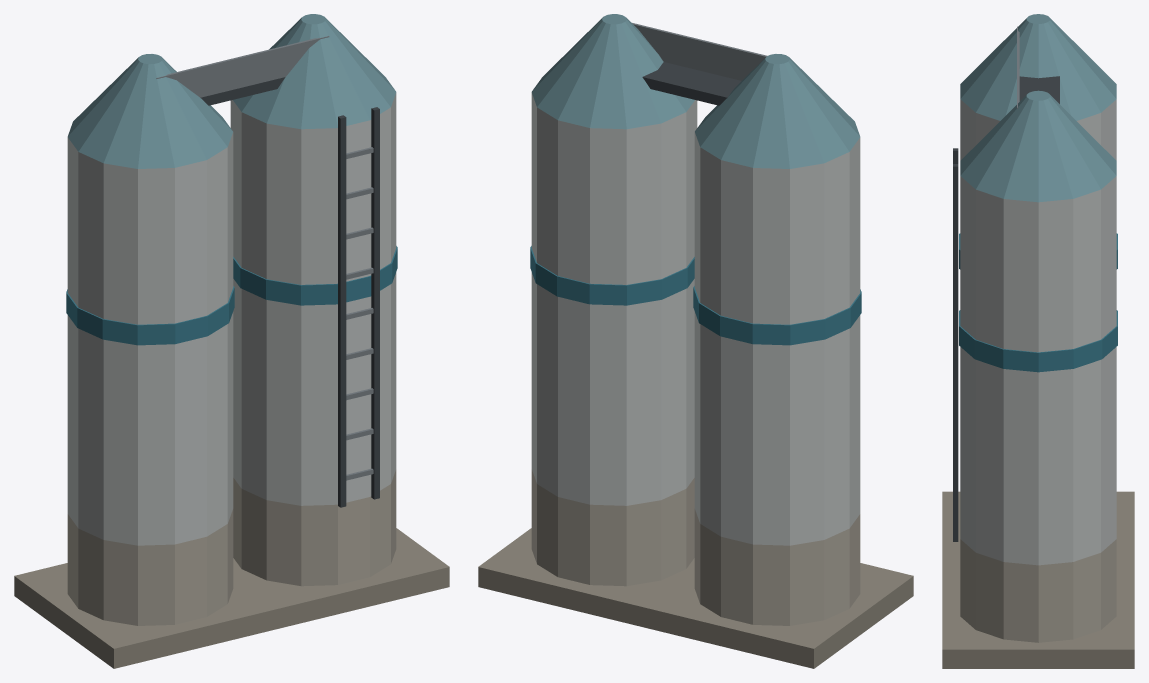
The model's file is w-silos.glb.
The picture shows the model from 3 angles, left to right: view 1: azimuth 30°, elevation 25°; view 2: azimuth 150°, elevation 25°; view 3: azimuth 270°, elevation 25°; orthographic projection. The views are drawn at different scales.
Parts seen in each view (by area): view 1: w-silos; view 2: w-silos; view 3: w-silos.
Boxes of the visible parts, x1,y1,x2,y2 form: w-silos: (14, 14, 449, 668); w-silos: (478, 14, 913, 668); w-silos: (942, 14, 1134, 668).
Bounding box in the file's own units: 1.4 × 2.2 × 0.7201.
